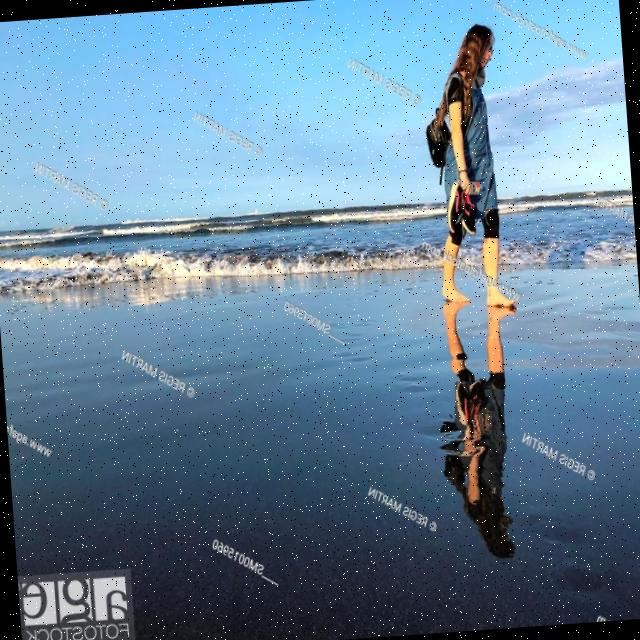Person: (418, 24, 518, 314)
